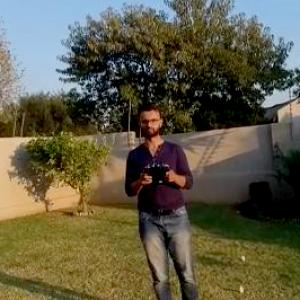follow: (120, 96, 205, 299)
